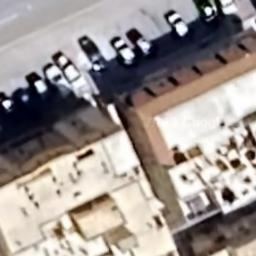sedan: (74, 34, 111, 75), (104, 31, 140, 70), (53, 52, 87, 90), (40, 64, 72, 96), (129, 28, 159, 60), (26, 74, 56, 105), (163, 9, 192, 41), (191, 0, 218, 24), (12, 89, 36, 113), (0, 94, 18, 124), (214, 0, 244, 16)
